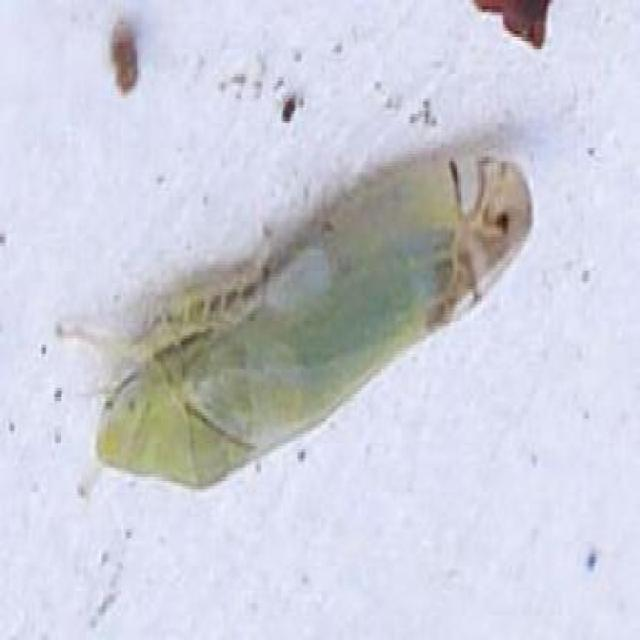green-leafhopper: (53, 154, 537, 487)
